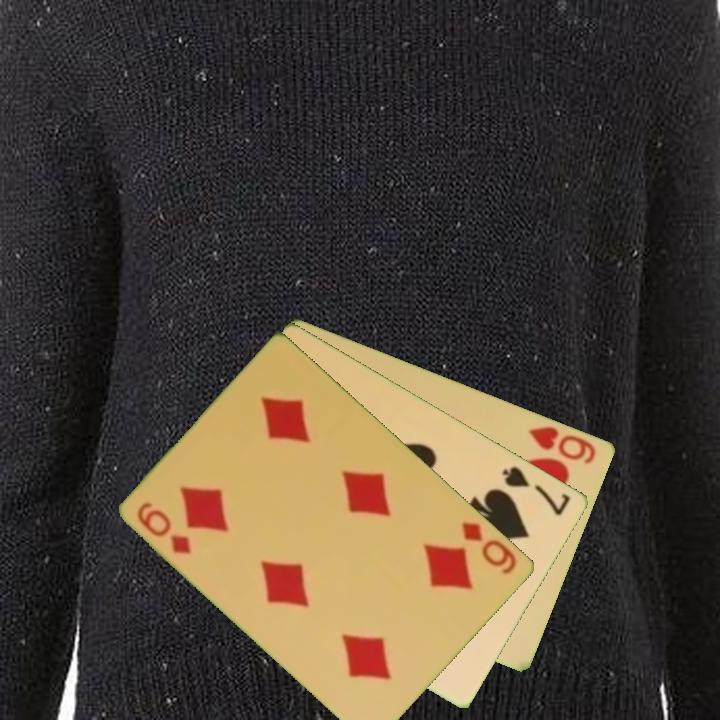6d: (458, 518, 520, 578), (134, 498, 195, 558)
6h: (525, 422, 600, 467)
7s: (499, 462, 574, 519)
